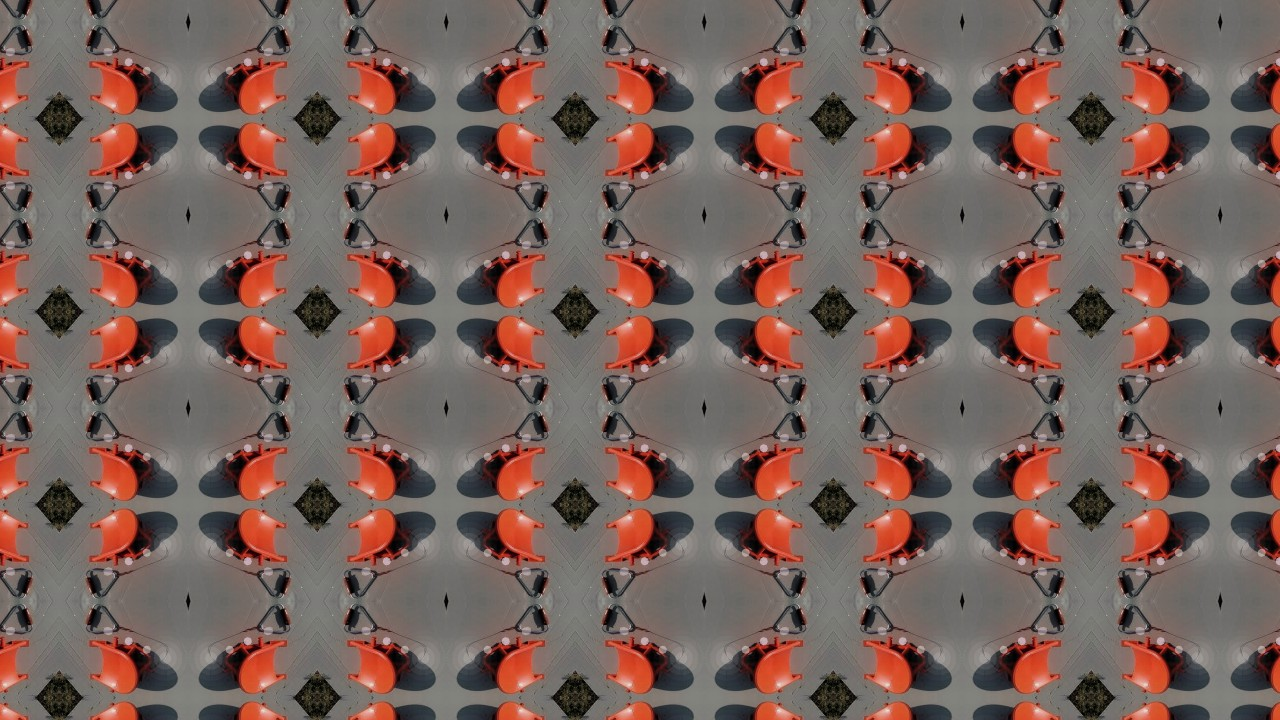chock: (85, 56, 152, 113), (221, 56, 288, 113), (344, 56, 411, 113), (480, 56, 547, 113), (603, 56, 670, 113), (739, 56, 806, 113), (862, 56, 929, 113), (998, 56, 1065, 113), (1121, 56, 1188, 113), (85, 122, 152, 179), (221, 122, 288, 179), (344, 122, 411, 179), (480, 122, 547, 179), (603, 122, 670, 179), (739, 122, 806, 179), (862, 122, 929, 179), (998, 122, 1065, 179), (1121, 122, 1188, 179), (85, 250, 152, 307), (221, 250, 288, 307), (344, 250, 411, 307), (480, 250, 547, 307), (603, 250, 670, 307), (739, 250, 806, 307), (862, 250, 929, 307), (998, 250, 1065, 307), (1121, 250, 1188, 307), (85, 316, 152, 373), (221, 316, 288, 373), (344, 316, 411, 373), (480, 316, 547, 373), (603, 316, 670, 373), (739, 316, 806, 373), (862, 316, 929, 373), (998, 316, 1065, 373), (1121, 316, 1188, 373), (85, 444, 152, 501), (221, 444, 288, 501), (344, 444, 411, 501), (480, 444, 547, 501), (603, 444, 670, 501), (739, 444, 806, 501), (862, 444, 929, 501), (998, 444, 1065, 501), (1121, 444, 1188, 501), (85, 510, 152, 567), (221, 510, 288, 567), (344, 510, 411, 567), (480, 510, 547, 567), (603, 510, 670, 567), (739, 510, 806, 567), (862, 510, 929, 567), (998, 510, 1065, 567), (1121, 510, 1188, 567), (85, 638, 152, 695), (221, 638, 288, 695), (344, 638, 411, 695), (480, 638, 547, 695), (603, 638, 670, 695), (739, 638, 806, 695), (862, 638, 929, 695), (998, 638, 1065, 695), (1121, 638, 1188, 695), (0, 56, 29, 113), (0, 122, 29, 179), (0, 250, 29, 307), (0, 316, 29, 373), (0, 444, 29, 501), (0, 510, 29, 567), (0, 638, 29, 695), (1257, 56, 1280, 113), (1257, 122, 1280, 179), (1257, 250, 1280, 307), (1257, 316, 1280, 373), (1257, 444, 1280, 501), (1257, 510, 1280, 567), (1257, 638, 1280, 695), (85, 704, 152, 720), (221, 704, 288, 720), (344, 704, 411, 720), (480, 704, 547, 720), (603, 704, 670, 720), (739, 704, 806, 720), (862, 704, 929, 720), (998, 704, 1065, 720), (1121, 704, 1188, 720), (0, 704, 29, 720)
